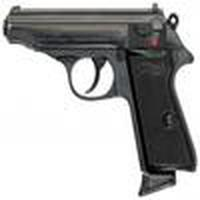gun: (2, 4, 200, 190)
